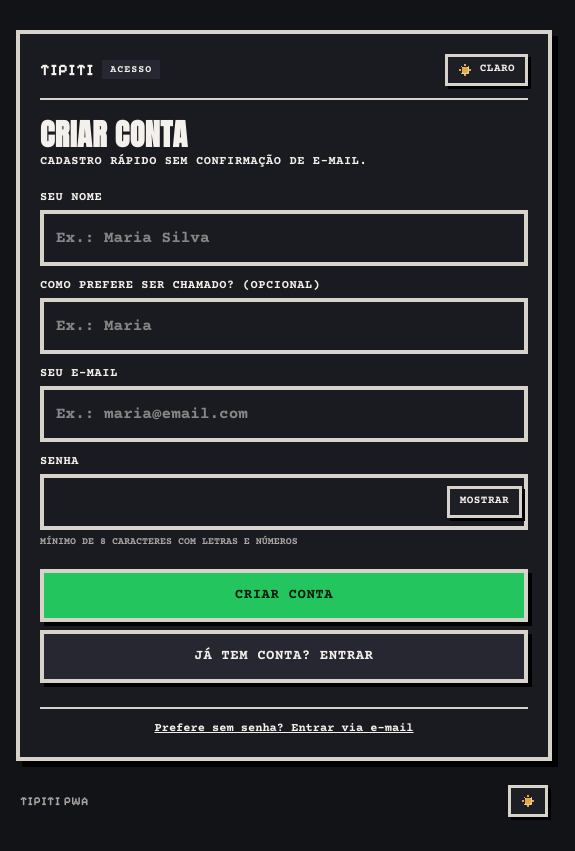
it: LoginPage › warns when email is already registered during signup
The image size is (575, 851).
In the field labelled "Seu nome": point(284, 238) [40,210,528,266], type "Ana Silva"
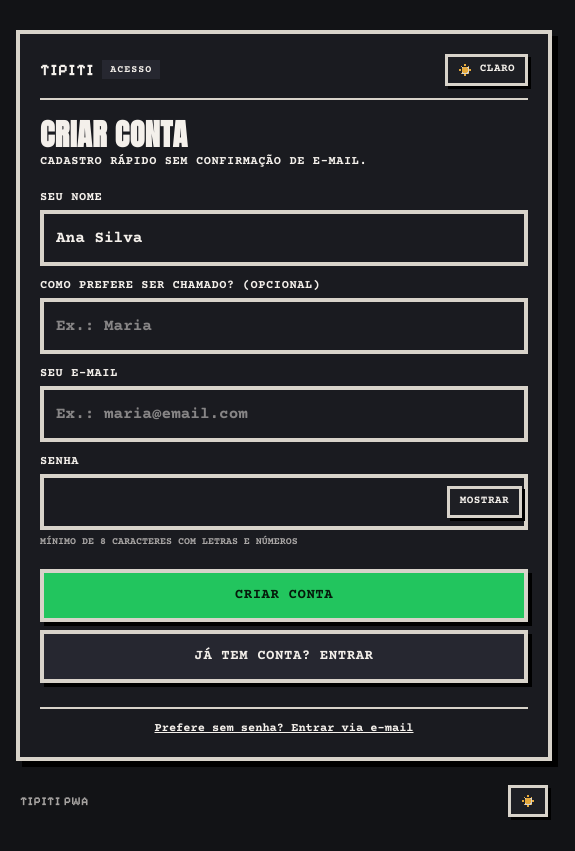
In the field labelled "Seu e-mail": point(284, 414) [40,386,528,442], type "ana@example.com"
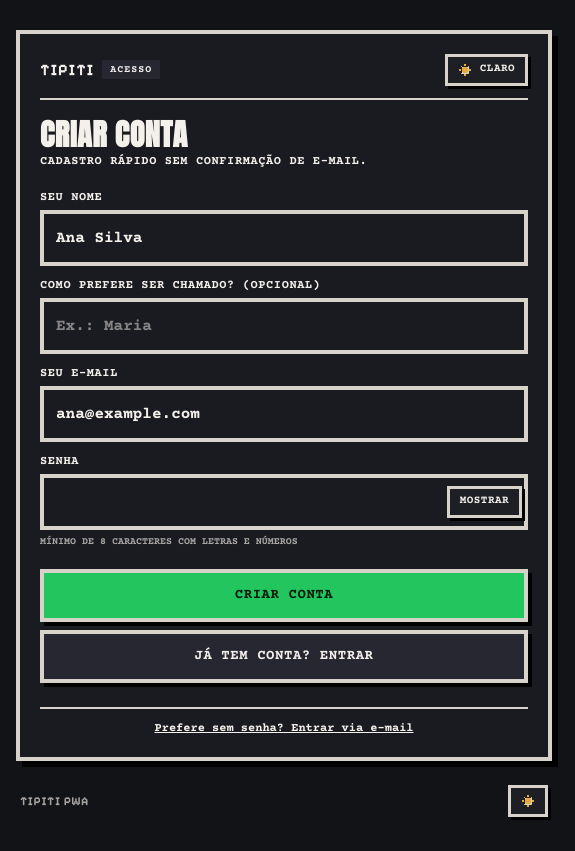
In the password field labelled "Senha": point(284, 502) [40,474,528,530], type "senha123"
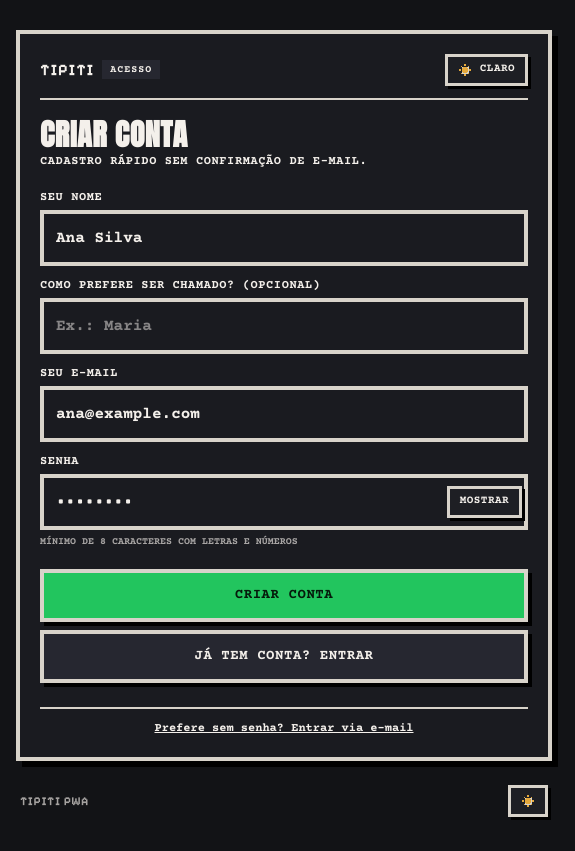
Click the button "Criar conta": point(284, 595) [40,568,528,622]
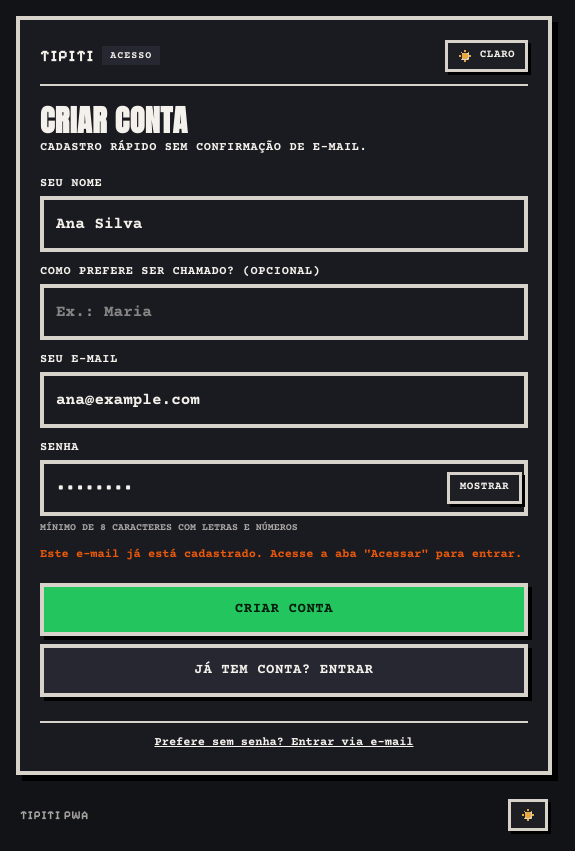
Now the text "Este e-mail já está cadastrado. Acesse a aba \"Acessar\" para entrar." is shown, box [40,546,528,562]
